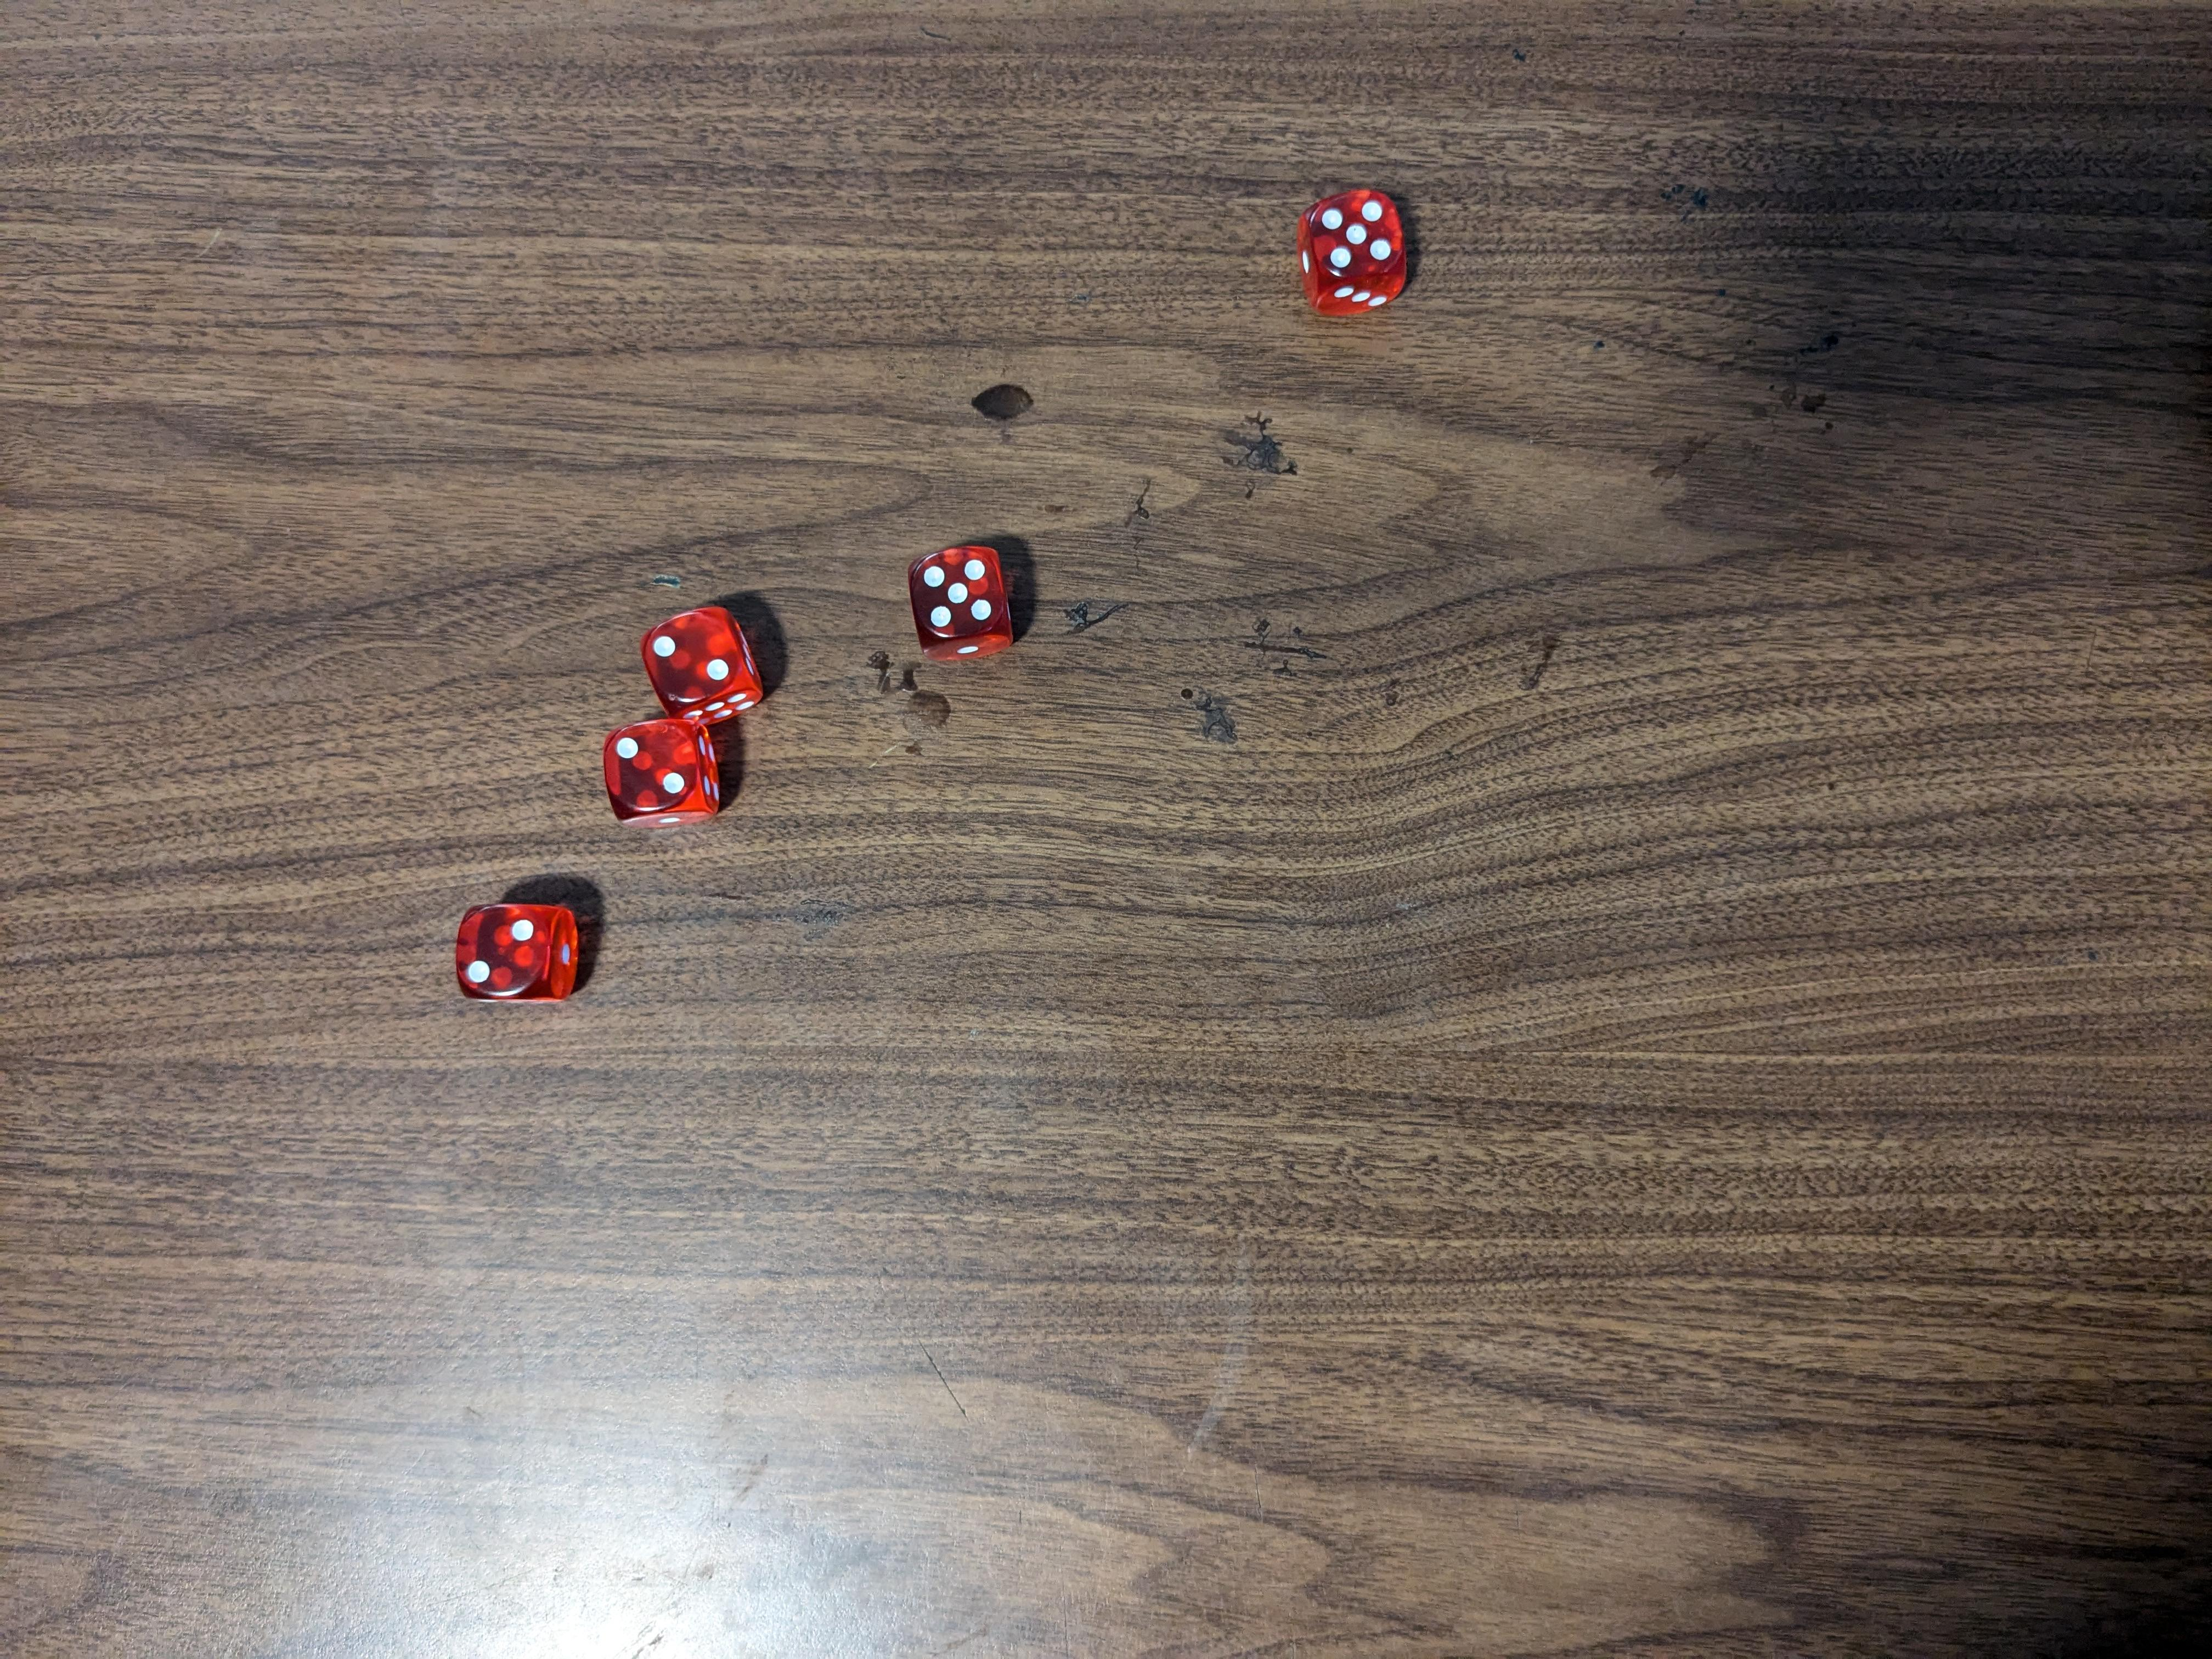five: (1296, 186, 1411, 319), (906, 544, 1014, 660)
two: (634, 606, 770, 727), (601, 708, 726, 828), (455, 901, 583, 1007)
